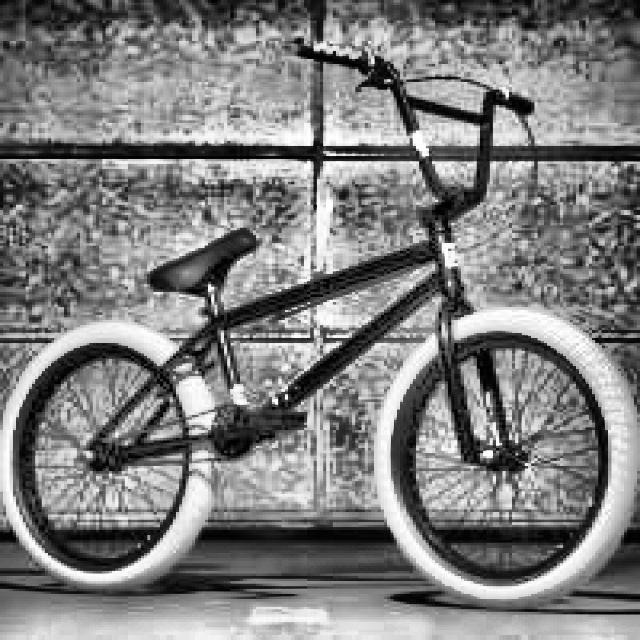motorcycle: (5, 43, 640, 623)
